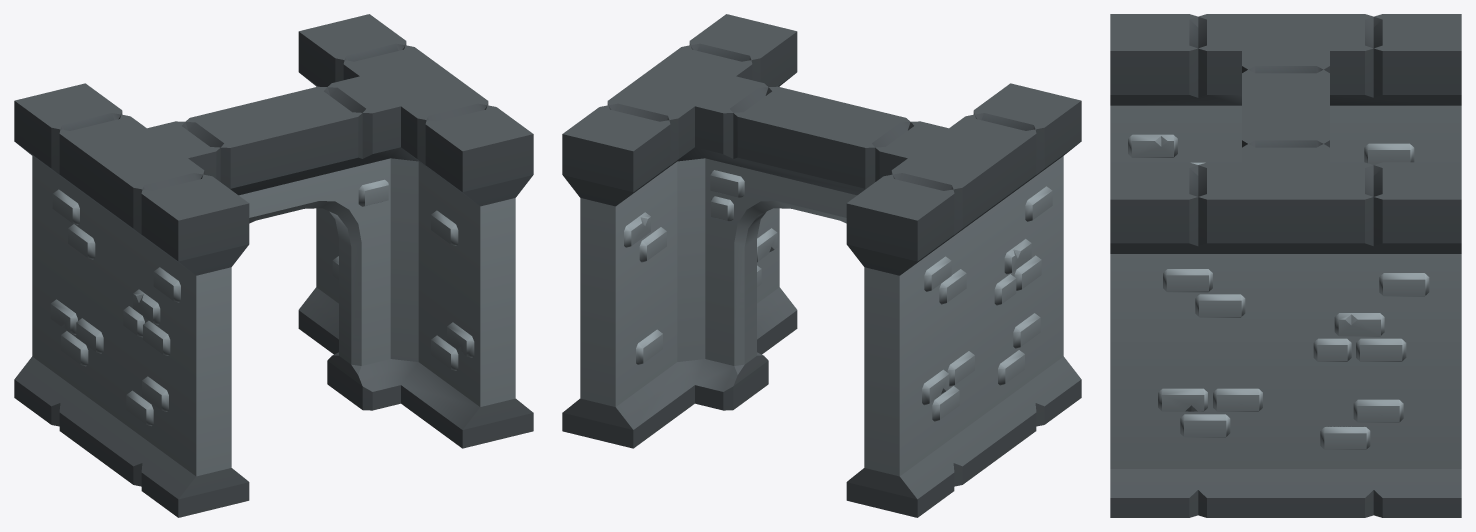
Rendered from wall_doorway_sides.gltf.
The picture shows the model from 3 angles, left to right: view 1: azimuth 30°, elevation 25°; view 2: azimuth 150°, elevation 25°; view 3: azimuth 270°, elevation 25°; orthographic projection. The views are drawn at different scales.
Parts seen in each view (by area): view 1: wall_doorway_sides; view 2: wall_doorway_sides; view 3: wall_doorway_sides.
Boxes of the visible parts, x1,y1,x2,y2 form: wall_doorway_sides: [14, 14, 533, 517]; wall_doorway_sides: [562, 14, 1081, 517]; wall_doorway_sides: [1110, 14, 1461, 517].
Size of the model in its own units: 5 by 4 by 4.
1 material, 1 textured.
